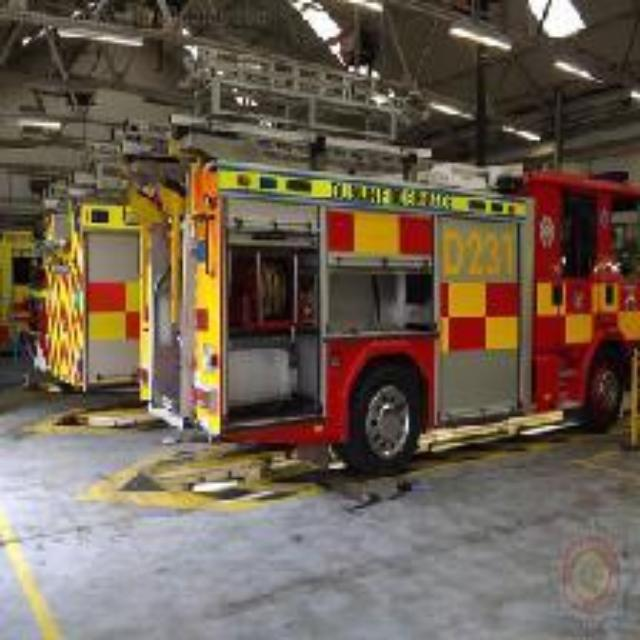emergency: (148, 147, 640, 467), (43, 173, 511, 424)
